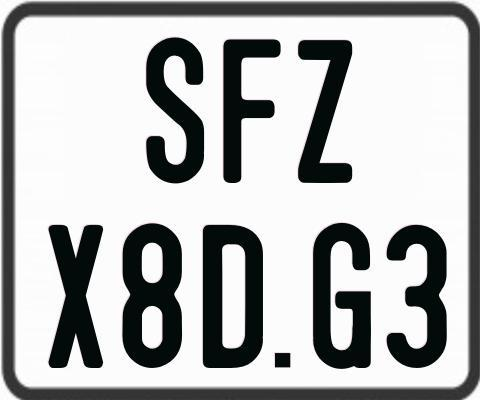3: (386, 225, 446, 369)
8: (120, 222, 186, 371)
D: (202, 222, 266, 365)
F: (221, 39, 282, 188)
G: (311, 220, 372, 367)
S: (145, 37, 206, 184)
X: (48, 224, 108, 373)
Z: (297, 39, 355, 182)
